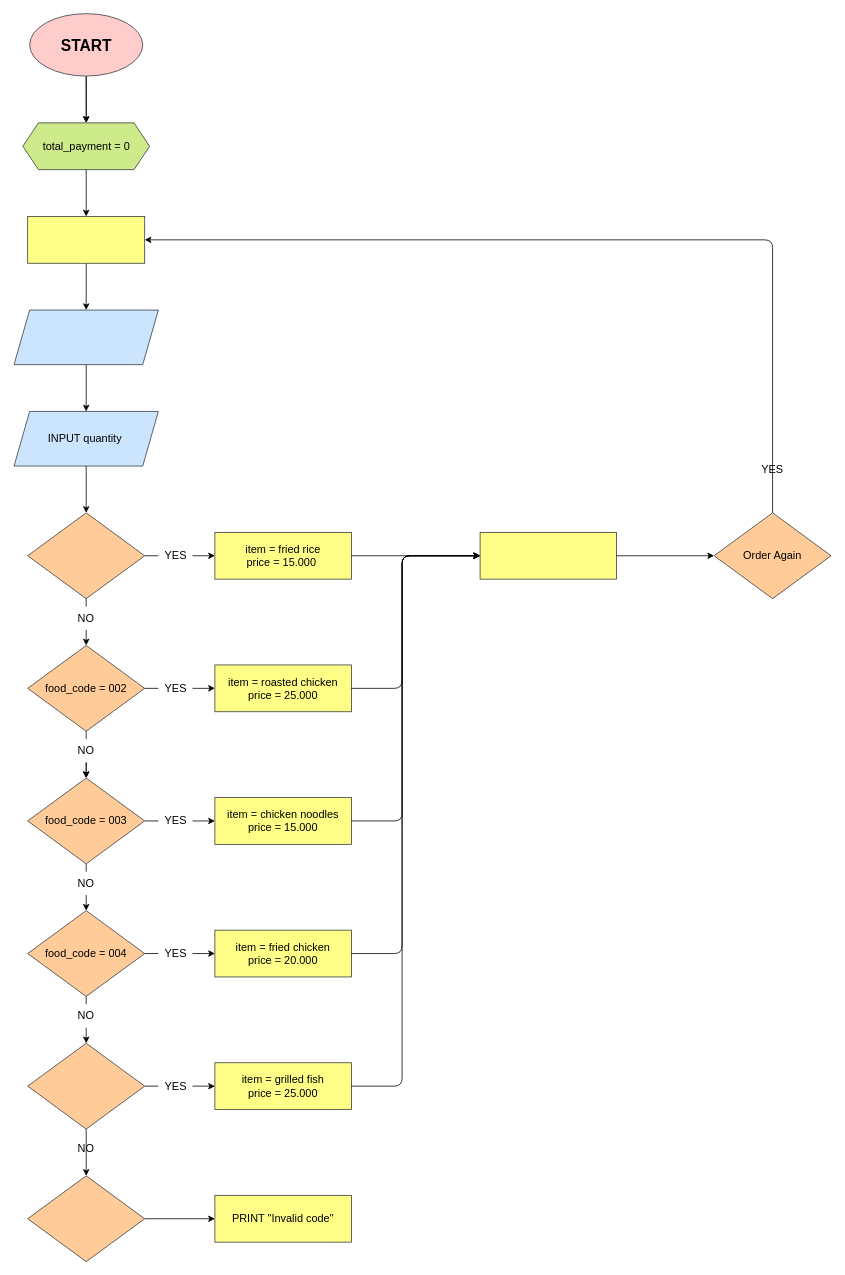
The diagram is 845 pixels wide and 1275 high, and some of its shapes have lost their labels. Each missing label, with the centre of its shape:
"DISPLAY food menu" belongs at (x=86, y=239).
"ELSE" belongs at (x=86, y=1218).
"food_code = 001" belongs at (x=86, y=555).
"food_code = 005" belongs at (x=86, y=1085).
"INPUT food_code" belongs at (x=85, y=337).
"total_payment = total_payment + (price x quantity)" belongs at (x=548, y=555).
